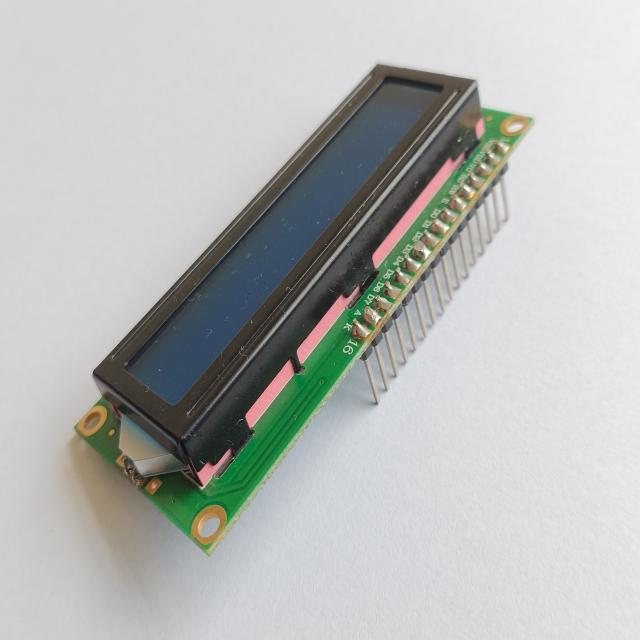lcd: (66, 58, 544, 566)
